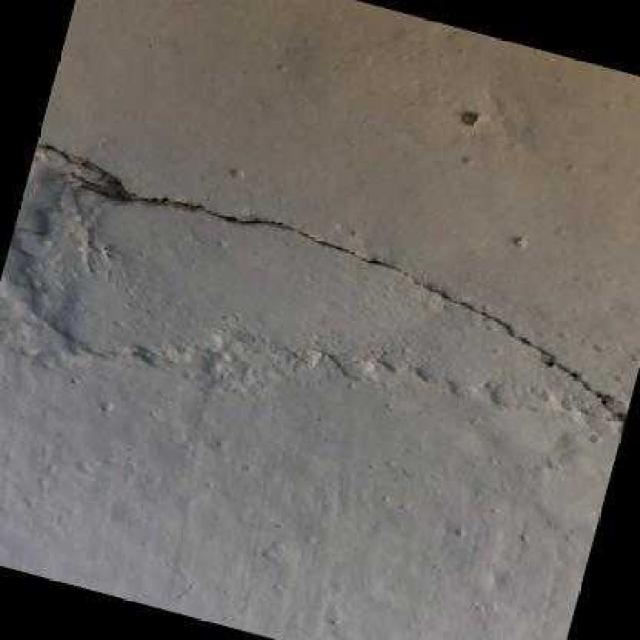D00: (35, 142, 626, 423)
